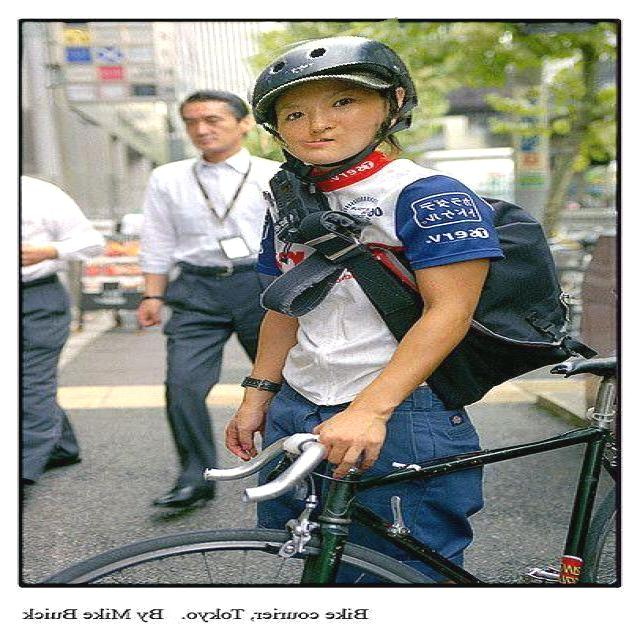helmet: (243, 27, 418, 145)
